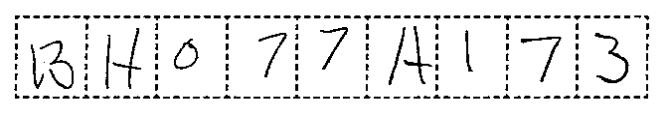0: (166, 34, 207, 80)
1: (450, 26, 480, 76)
3: (590, 26, 635, 92)
7: (512, 29, 566, 87), (312, 24, 350, 73), (254, 29, 289, 81)
A: (383, 22, 433, 88)
B: (25, 34, 79, 93)
H: (100, 24, 146, 94)
